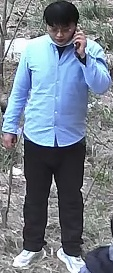phone: (42, 4, 112, 95)
